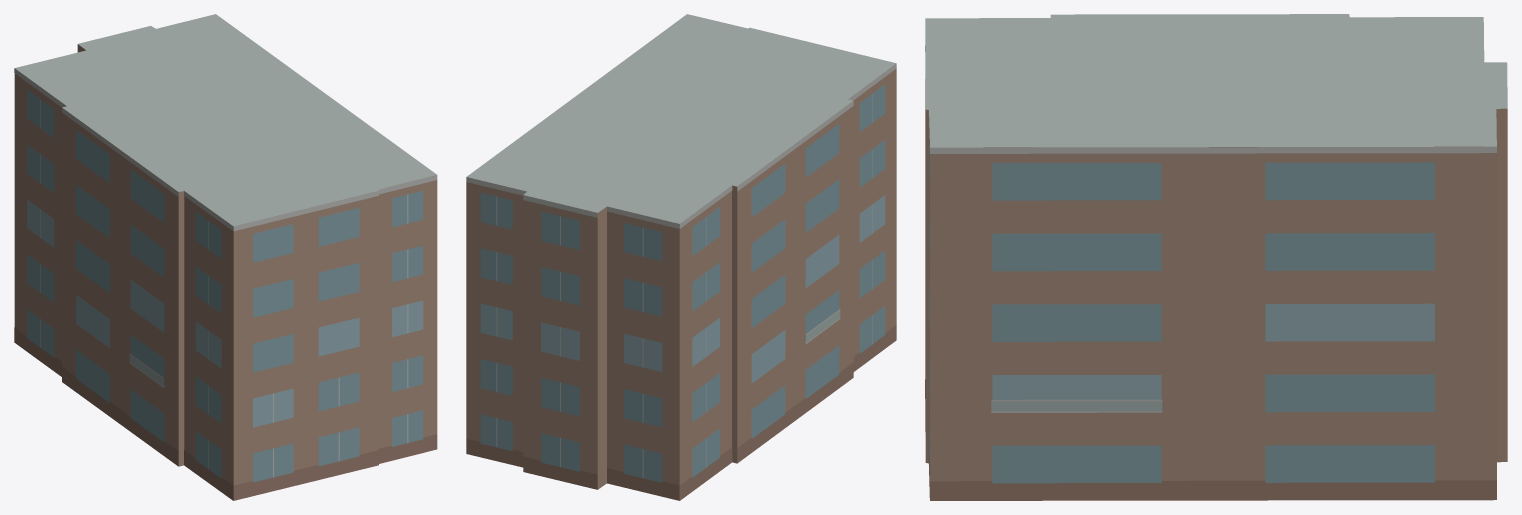
File: survey-upis-32733460.glb
3 views of the same model, side by side, from view 1: azimuth 30°, elevation 25°; view 2: azimuth 150°, elevation 25°; view 3: azimuth 270°, elevation 25° (orthographic). The views are drawn at different scales.
Visible parts, largest first — view 1: survey-upis-32733460.tmp; view 2: survey-upis-32733460.tmp; view 3: survey-upis-32733460.tmp.
Part boxes in pixels (x1,y1,x2,y2): survey-upis-32733460.tmp: (14,14,437,500); survey-upis-32733460.tmp: (466,14,896,500); survey-upis-32733460.tmp: (925,14,1507,500).
Bounding box in the file's own units: 10.91 × 13.4 × 20.04.
